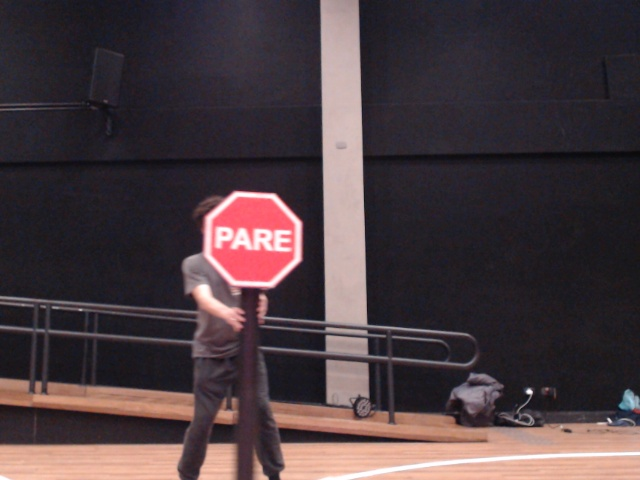SEMAFORO: (192, 180, 333, 310)
